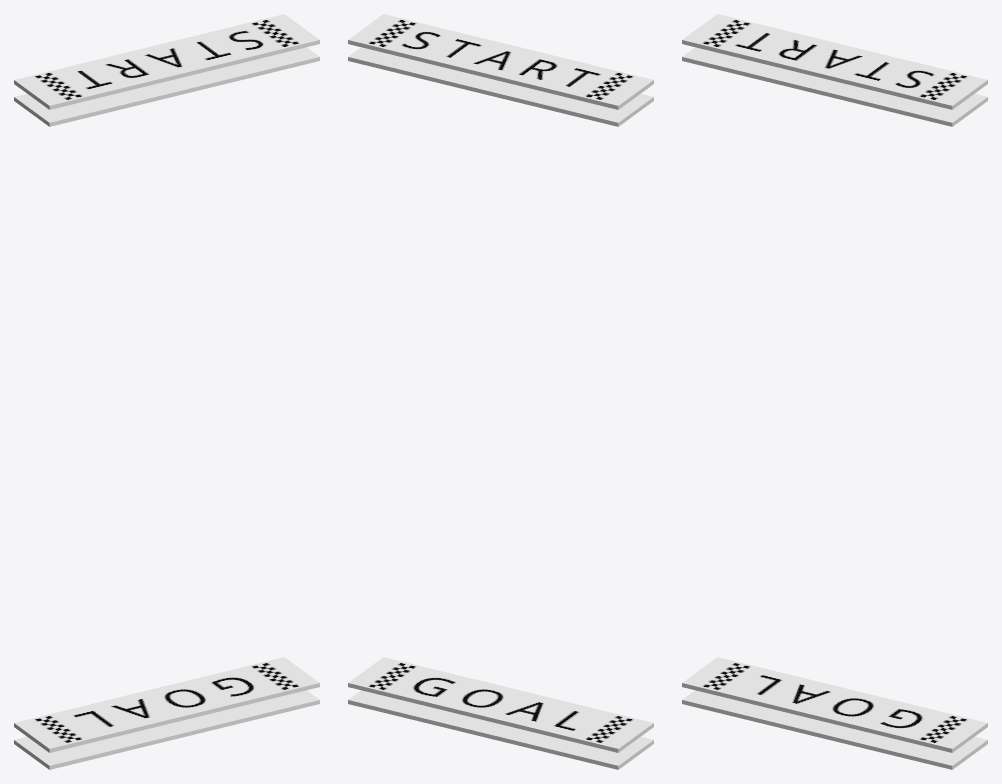
Rendered from labels.obj.
The picture shows the model from 3 angles, left to right: view 1: azimuth 30°, elevation 25°; view 2: azimuth 150°, elevation 25°; view 3: azimuth 330°, elevation 25°; orthographic projection.
Parts seen in each view (by area): view 1: labels; view 2: labels; view 3: labels.
Boxes of the visible parts, x1,y1,x2,y2 form: labels: [14, 14, 319, 769]; labels: [348, 14, 653, 769]; labels: [682, 14, 987, 769].
Size of the model in its own units: 0.44 by 1.03 by 0.1.
